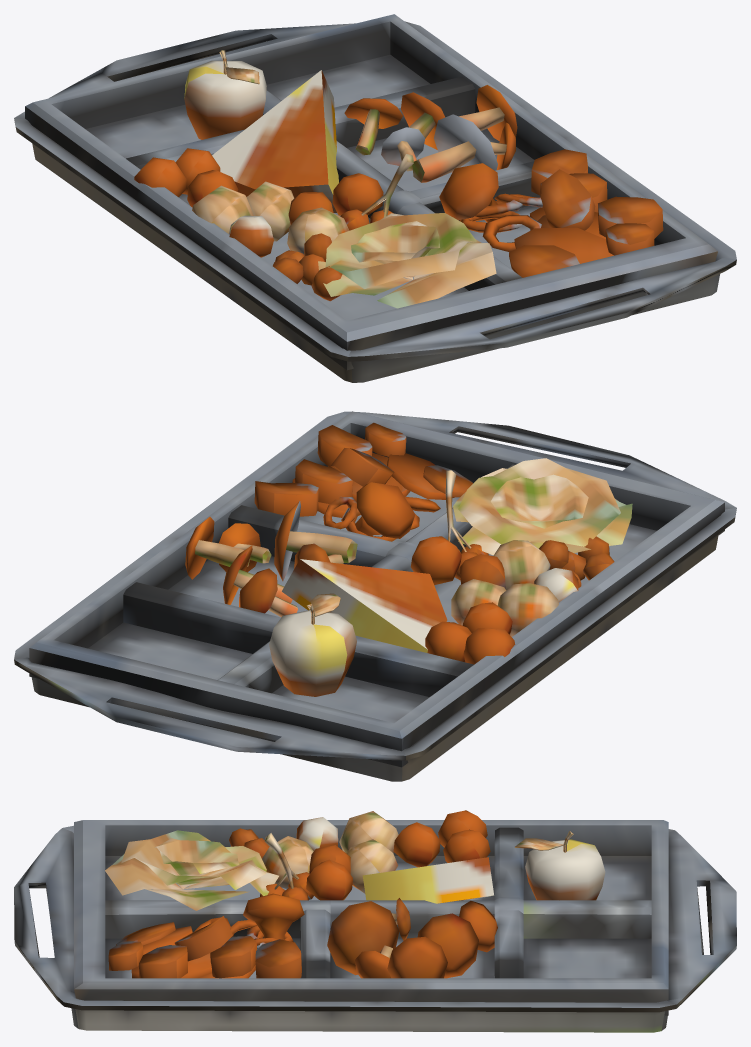
Rendered from MessTray_Fruit.fbx.
3 renders of one model, top to bottom at view 1: azimuth 30°, elevation 25°; view 2: azimuth 150°, elevation 25°; view 3: azimuth 270°, elevation 25°, orthographic. The views are drawn at different scales.
Visible parts, largest first — view 1: MessTray.001; view 2: MessTray.001; view 3: MessTray.001.
Boxes of the visible parts, x1,y1,x2,y2 form: MessTray.001: [14, 14, 736, 382]; MessTray.001: [14, 411, 736, 781]; MessTray.001: [14, 810, 736, 1032].
Bounding box in the file's own units: 58.47 × 16 × 97.26.
